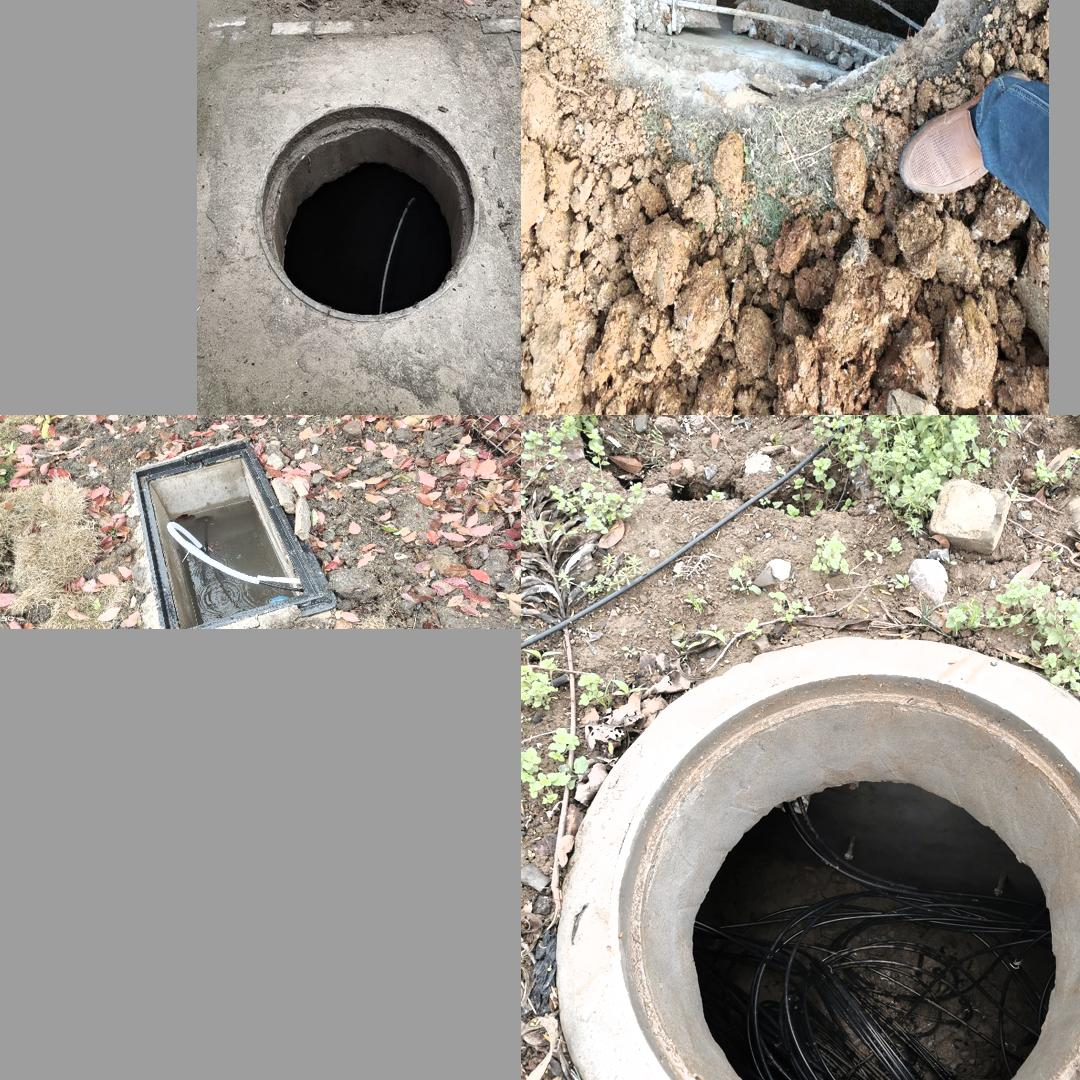lose: (549, 633, 1080, 1080), (255, 99, 481, 323), (556, 0, 1006, 102), (132, 439, 340, 628)
